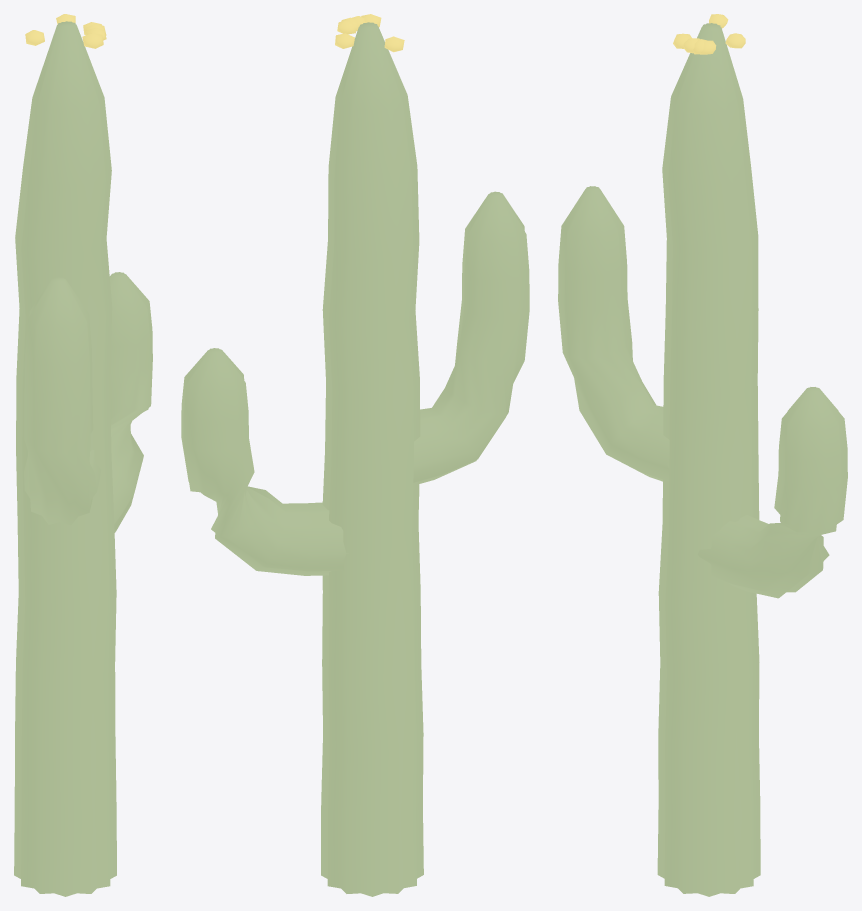
The model's file is Blender_Saguaro_1.glb.
3 renders of one model, left to right at view 1: azimuth 30°, elevation 25°; view 2: azimuth 150°, elevation 25°; view 3: azimuth 270°, elevation 25°, orthographic.
Parts seen in each view (by area): view 1: Blender_Saguaro_1; view 2: Blender_Saguaro_1; view 3: Blender_Saguaro_1.
Boxes of the visible parts, x1=… form: Blender_Saguaro_1: x1=14, y1=14, x2=152, y2=896; Blender_Saguaro_1: x1=181, y1=14, x2=529, y2=896; Blender_Saguaro_1: x1=558, y1=14, x2=847, y2=896.
Size of the model in its own units: 2.81 by 10.01 by 3.09.
